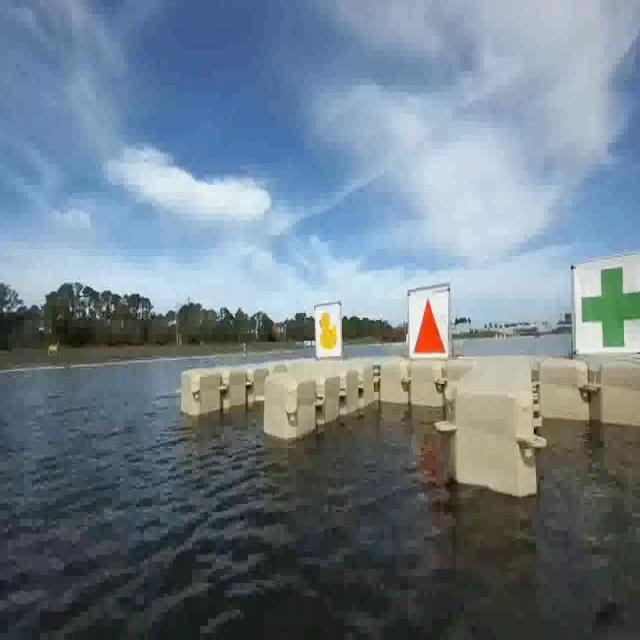blue-cross: (570, 261, 640, 353)
red-dot: (408, 295, 450, 363)
yellow-duck: (315, 304, 344, 355)
